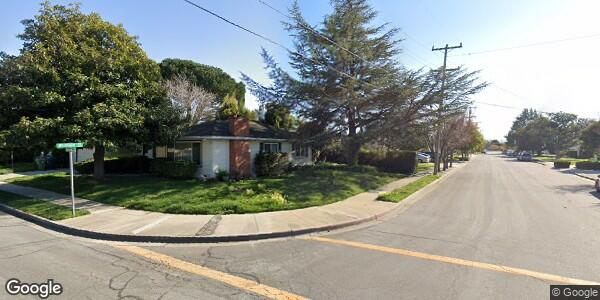Wood_Pole: (428, 41, 464, 173)
